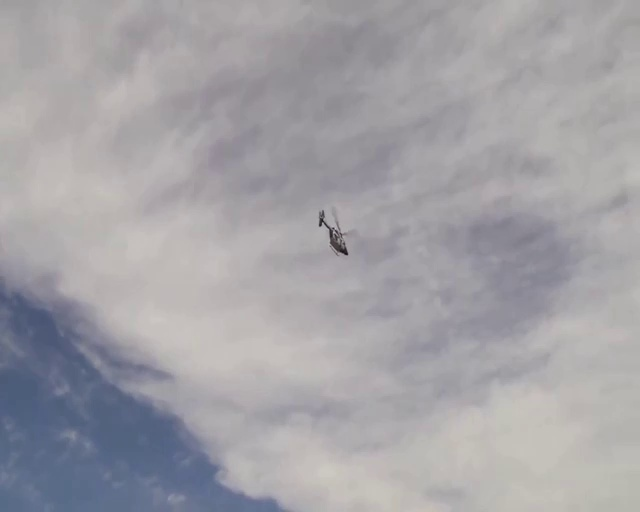HELICOPTER: (318, 206, 352, 256)
